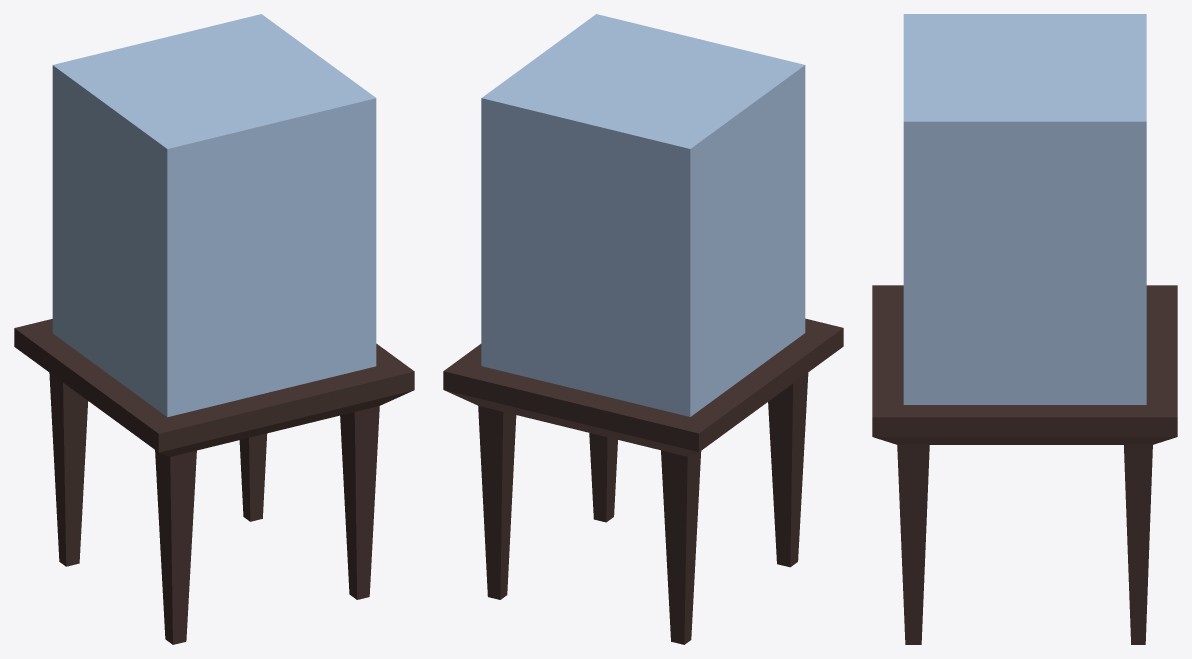
File: SM_SmallDisplayCase.fbx
3 renders of one model, left to right at view 1: azimuth 30°, elevation 25°; view 2: azimuth 150°, elevation 25°; view 3: azimuth 270°, elevation 25°, orthographic. The views are drawn at different scales.
Visible parts, largest first — view 1: SM_SmallDisplayCase; view 2: SM_SmallDisplayCase; view 3: SM_SmallDisplayCase.
Boxes of the visible parts, <box> form: SM_SmallDisplayCase: <box>14,14,414,644</box>; SM_SmallDisplayCase: <box>443,14,843,644</box>; SM_SmallDisplayCase: <box>872,14,1177,644</box>.
Bounding box in the file's own units: 82.79 × 154 × 80.98.
